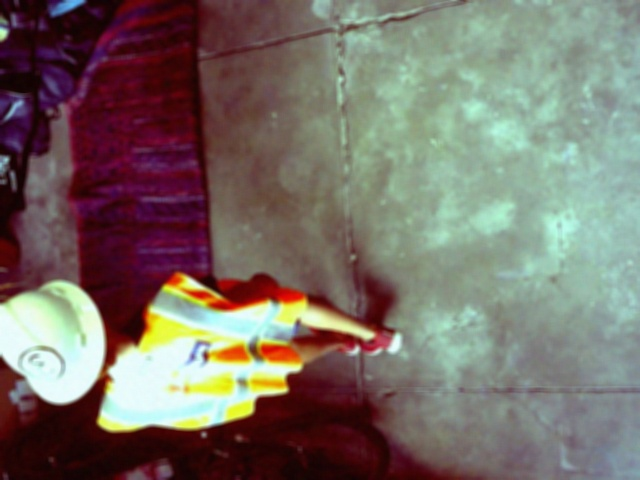three: (17, 346, 64, 381)
